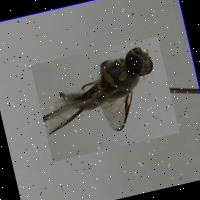Oriental-fruit-fly: (31, 36, 180, 162)
